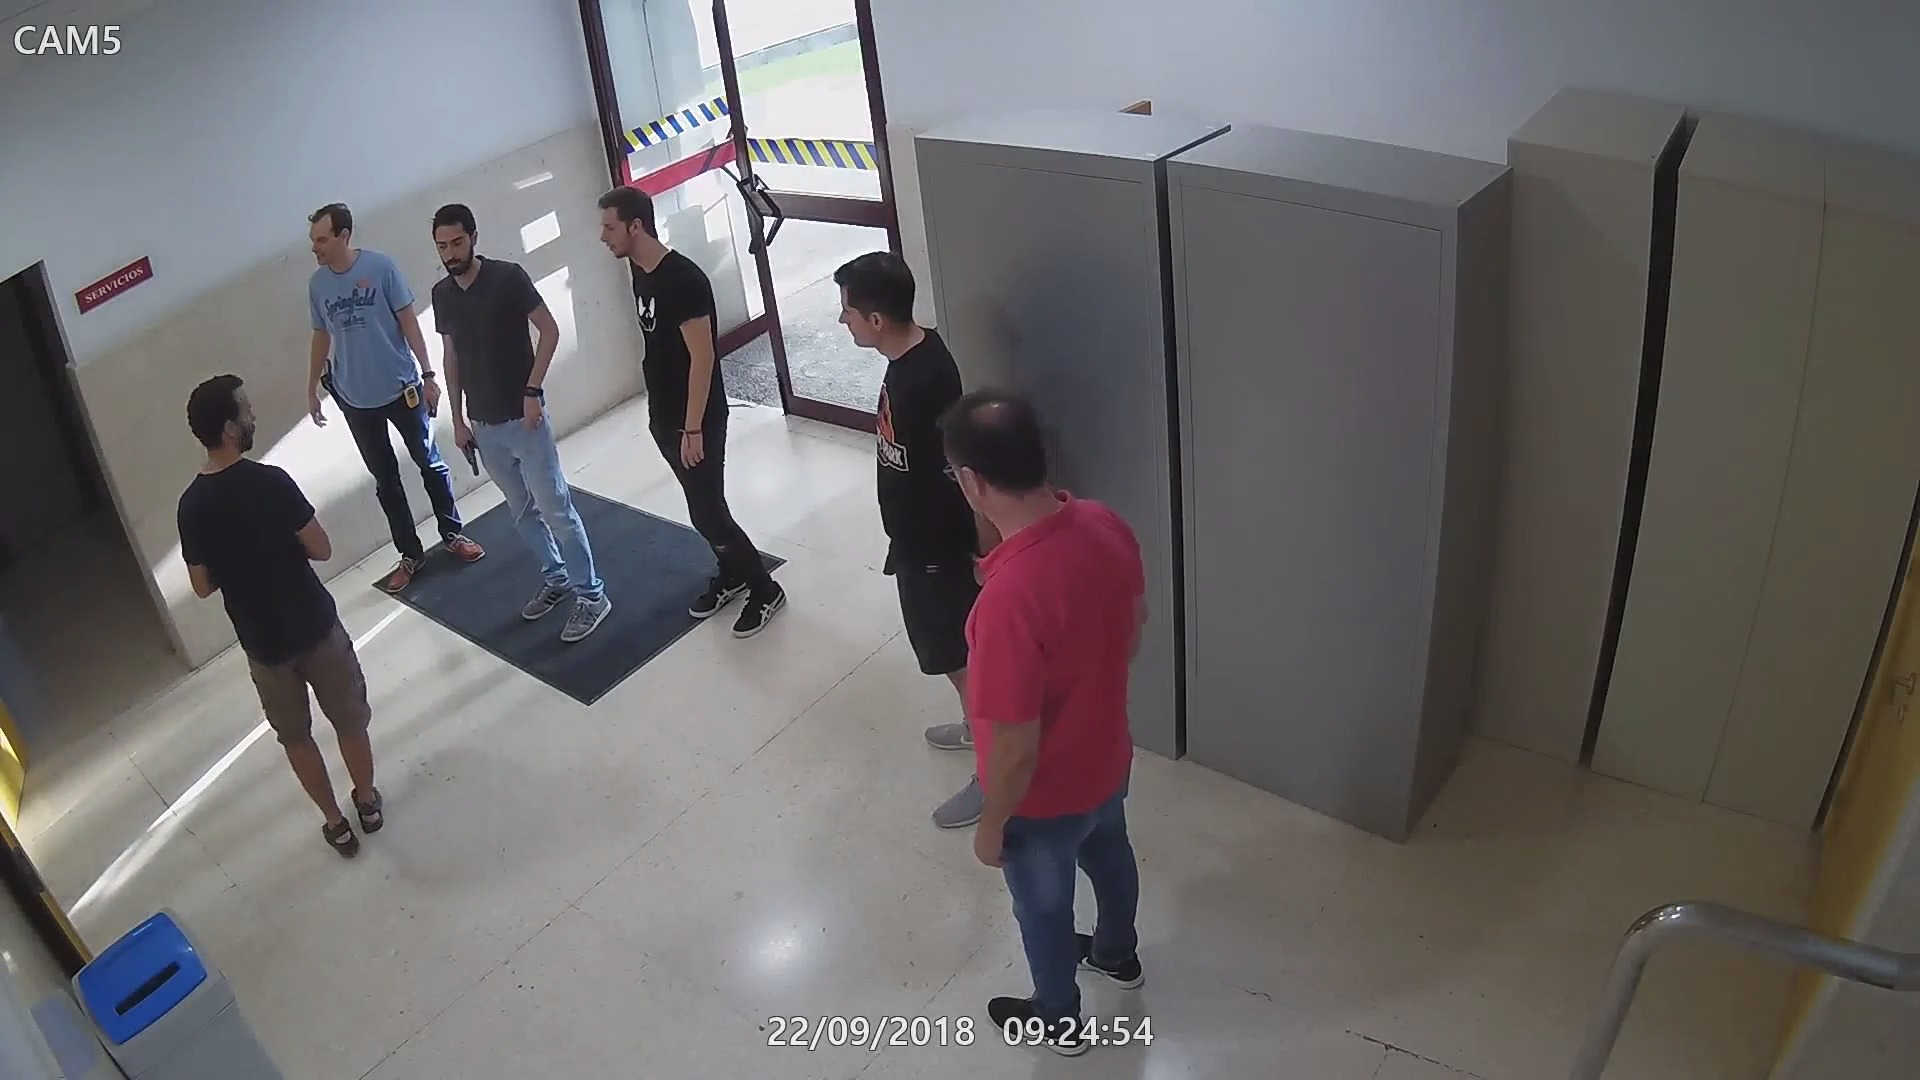Handgun: (313, 351, 342, 419), (450, 419, 483, 477), (880, 531, 901, 582)
Knife: (418, 372, 444, 462)
